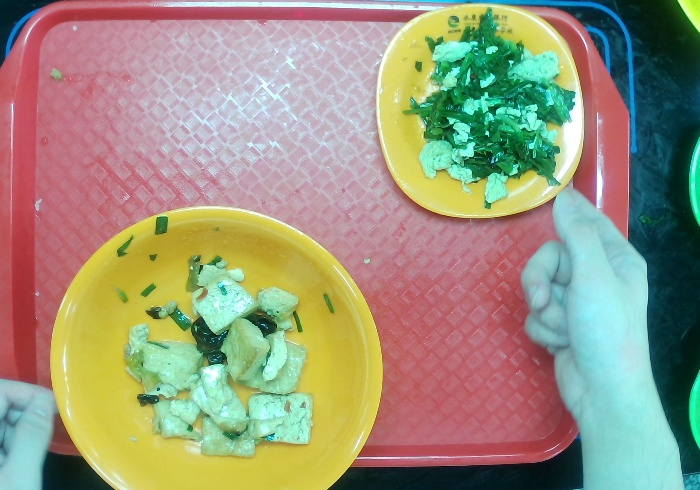YKMZ-Ju_Se_Fang_Die: (375, 7, 587, 218)
YKMZ-Ju_Se_Tang_Wan: (50, 207, 386, 490)
